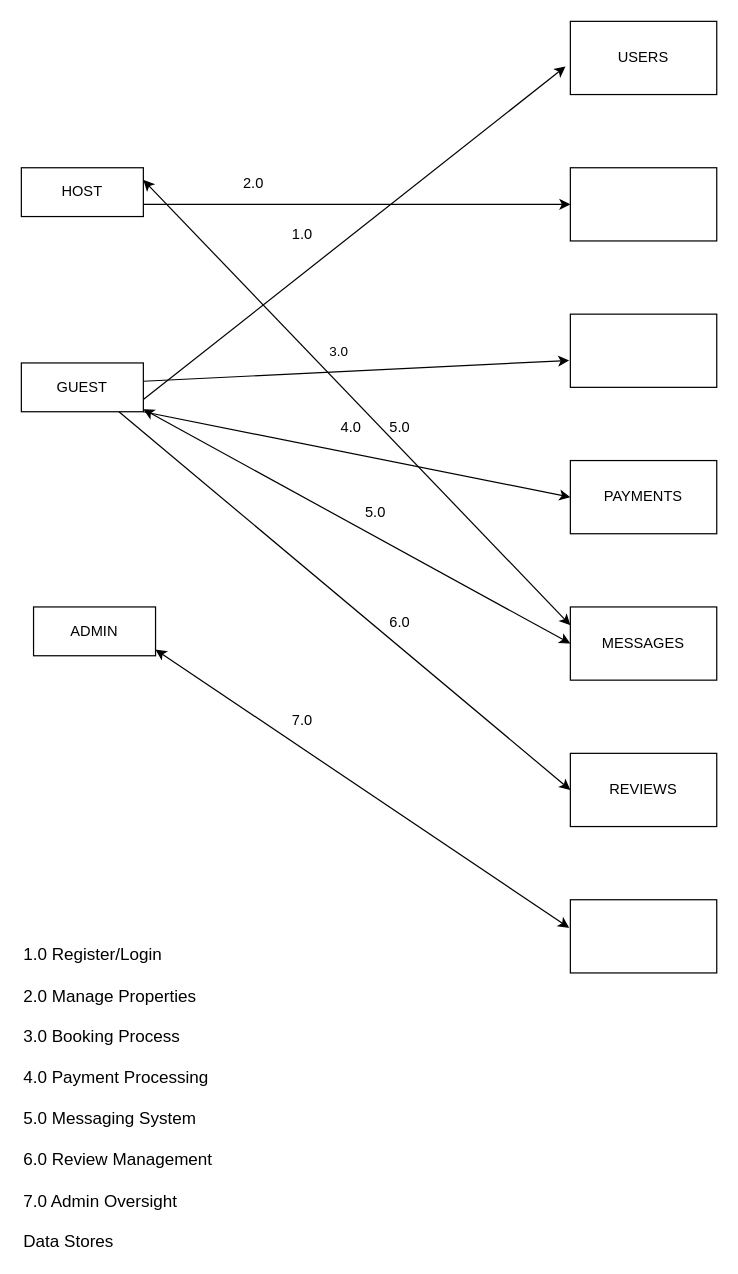
The diagram is 738 pixels wide and 1274 high, and some of its shapes have lost their labels. Here are the shapes that lost their labels. From the top down, the centre of each, then its label:
At (x=643, y=204): "PROPERTIES".
At (x=643, y=350): "BOOKINGS".
At (x=643, y=936): "ALL STORES".
